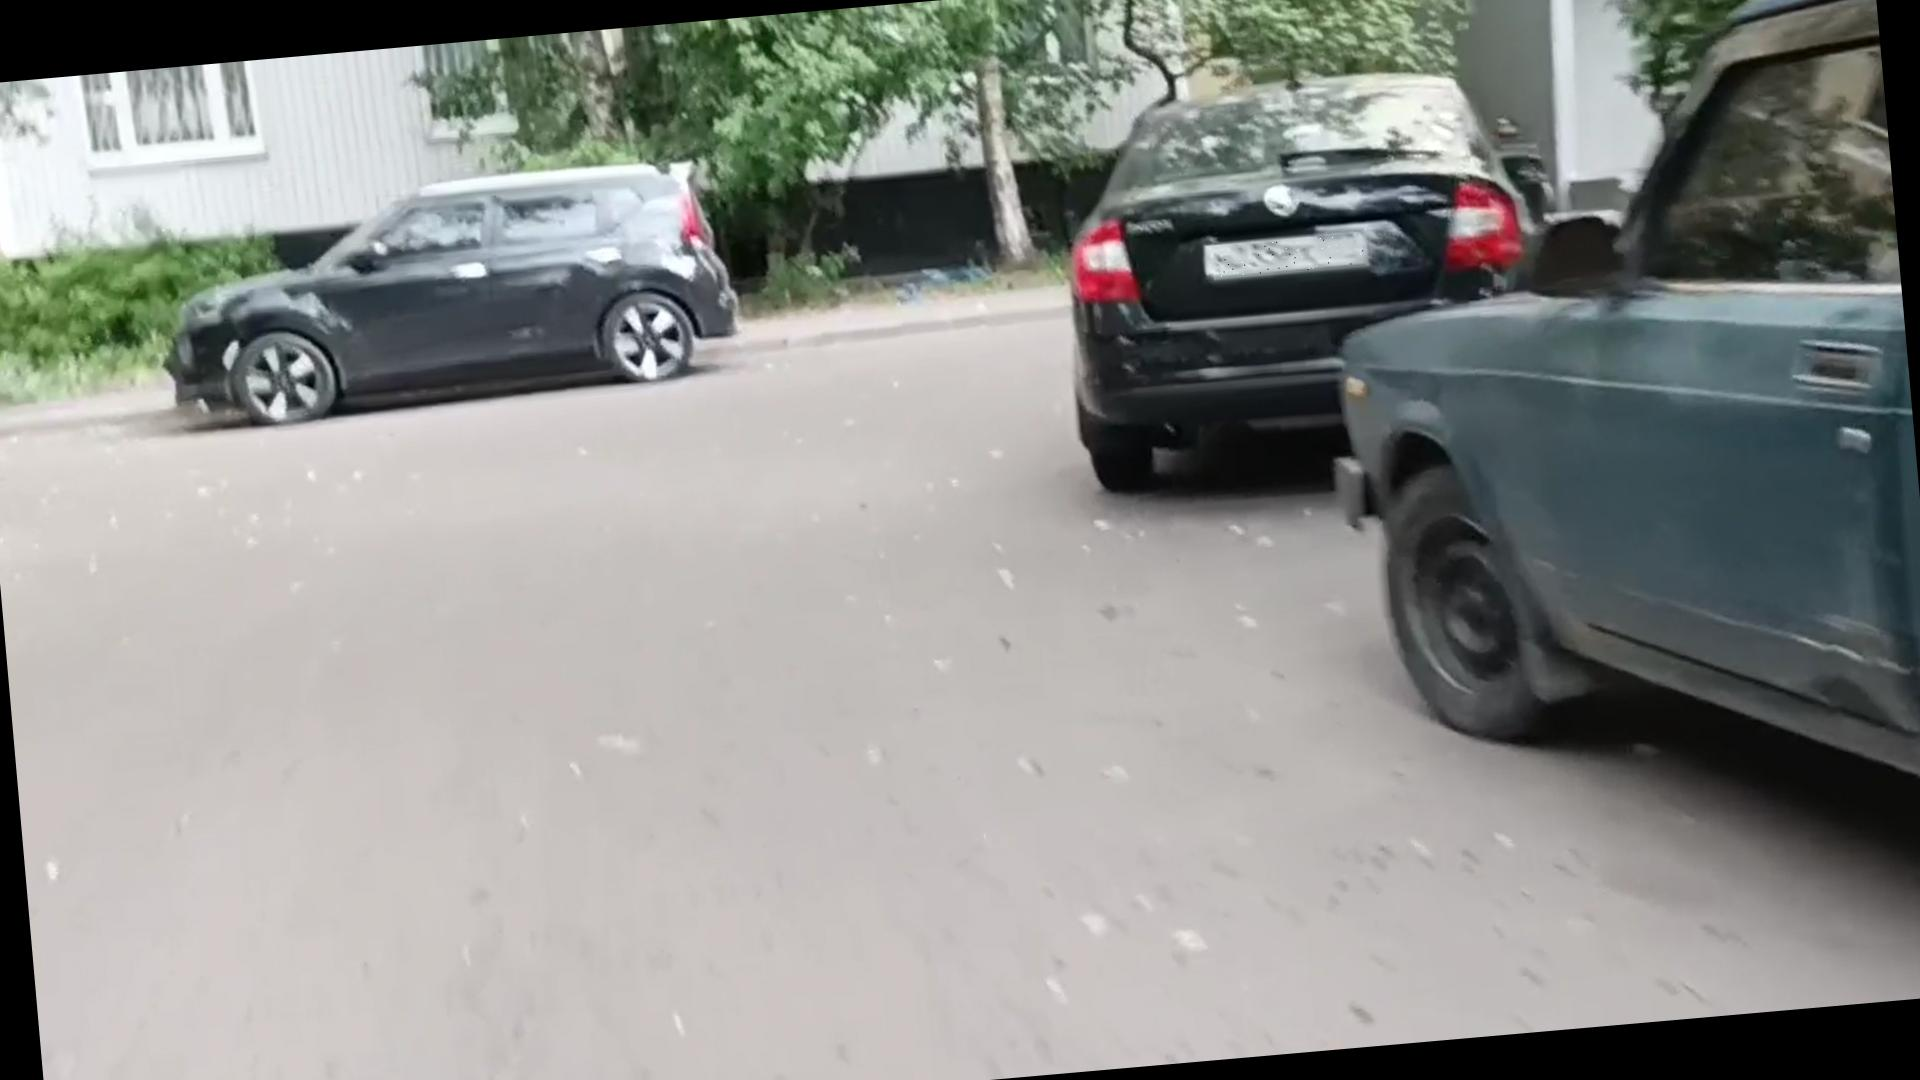plate: (1208, 234, 1368, 281)
